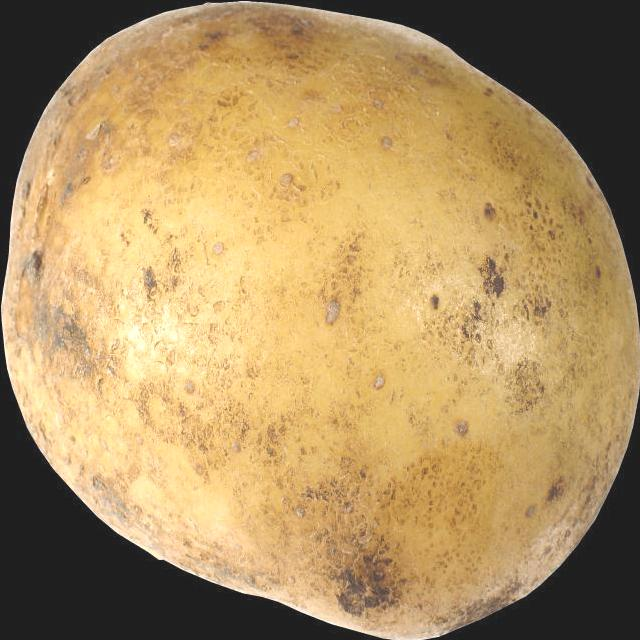potato: (6, 5, 637, 634)
